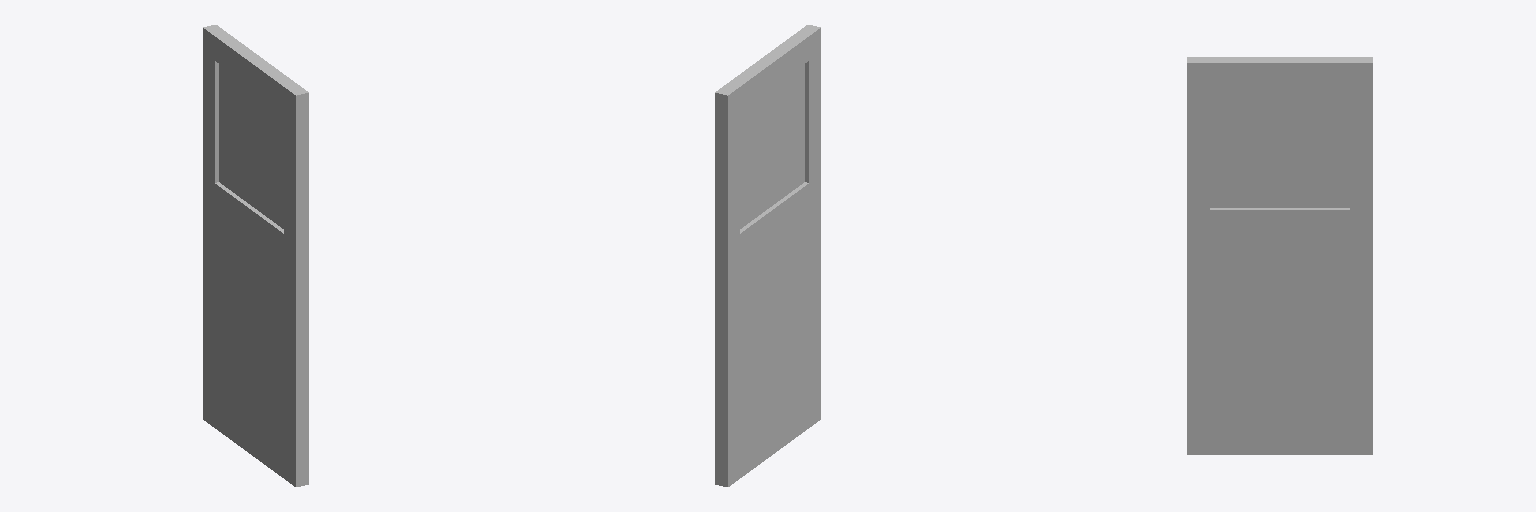
Rendered from Door.obj.
3 renders of one model, left to right at view 1: azimuth 30°, elevation 25°; view 2: azimuth 150°, elevation 25°; view 3: azimuth 270°, elevation 25°, orthographic.
Parts seen in each view (by area): view 1: Door, DoorWindow; view 2: Door, DoorWindow; view 3: Door, DoorWindow.
Boxes of the visible parts, box(x1,y1,x2,y2) form: Door: box(203, 25, 308, 486); DoorWindow: box(219, 64, 283, 228); Door: box(715, 25, 820, 486); DoorWindow: box(740, 64, 804, 228); Door: box(1187, 57, 1372, 454); DoorWindow: box(1210, 88, 1349, 207).
Bounding box in the file's own units: 0.06 × 1.72 × 0.74.